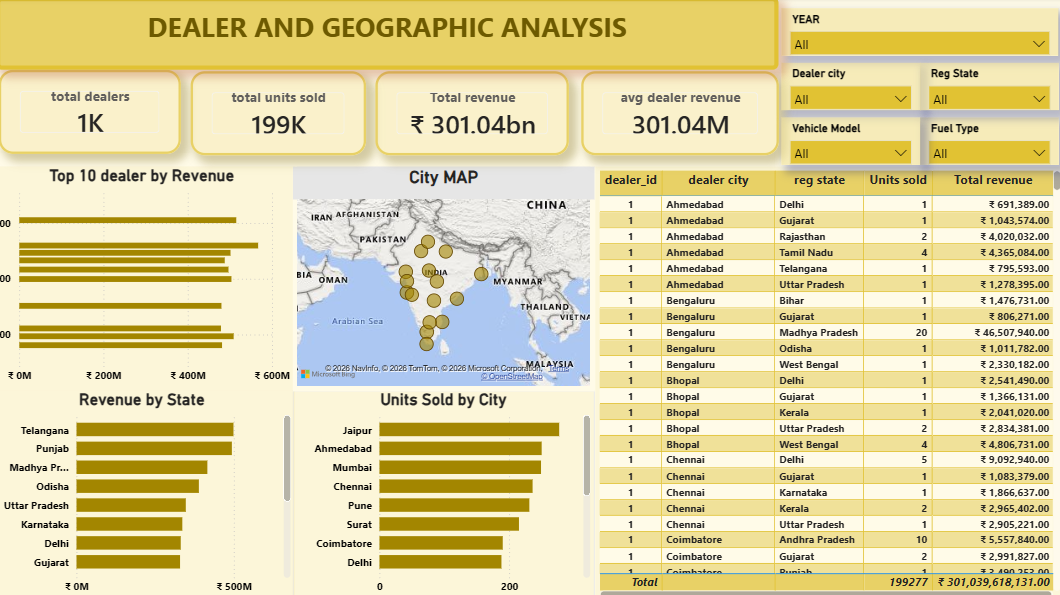

What the dashboard file says about the page in this screenshot:
{"tool":"powerbi","page":{"name":"dealer analysis","canvas":[1280,720],"ordinal":2},"visuals":[{"type":"cardVisual","fields":{"Data":["date_table.total dealers"]},"box":[6.7,90,170,100],"z":0},{"type":"barChart","title":"Top 10 dealer by Revenue","fields":{"Y":["date_table.Total revenue"],"Category":["sales_details.dealer_id"]},"box":[0,201.7,363.3,266.7],"z":1000},{"type":"barChart","title":"Units Sold by City","fields":{"Y":["date_table.total units sold"],"Category":["sales_details.dealer_city"]},"box":[361.7,468.3,358.3,251.7],"z":2000},{"type":"barChart","title":"Revenue by State","fields":{"Y":["date_table.Total revenue"],"Category":["sales_details.reg_state"]},"box":[0,468.3,363.3,251.7],"z":3000},{"type":"map","title":"City MAP","fields":{"Size":["date_table.total units sold"],"Category":["sales_details.dealer_city"]},"box":[361.7,201.7,358.3,266.7],"z":4000},{"type":"tableEx","fields":{"Values":["sales_details.dealer_id","sales_details.dealer_city","sales_details.reg_state","date_table.total units sold","date_table.Total revenue"]},"box":[720,201.7,558.3,518.3],"z":5000},{"type":"slicer","title":"year","fields":{"Values":["date_table.year"]},"box":[858.3,13.3,413.3,56.7],"z":6000},{"type":"cardVisual","fields":{"Data":["date_table.total units sold"]},"box":[188.3,91.7,196.7,100],"z":7000},{"type":"cardVisual","fields":{"Data":["date_table.Total revenue"]},"box":[396.7,91.7,218.3,100],"z":8000},{"type":"cardVisual","fields":{"Data":["date_table.avg dealer revenue"]},"box":[628.3,91.7,218.3,100],"z":9000},{"type":"slicer","title":"year","fields":{"Values":["vehicle_info.fuel_type"]},"box":[1065,141.7,206.7,56.7],"z":10000},{"type":"slicer","title":"year","fields":{"Values":["sales_details.dealer_city"]},"box":[858.3,78.3,206.7,56.7],"z":11000},{"type":"slicer","title":"year","fields":{"Values":["sales_details.reg_state"]},"box":[1065,78.3,206.7,56.7],"z":12000},{"type":"slicer","title":"year","fields":{"Values":["sales_details.vehicle_model"]},"box":[858.3,140,206.7,56.7],"z":13000},{"type":"textbox","box":[8.3,3.3,838.6,86.5],"z":14000}]}

Visuals, with their boxes in screenshot pixels (x1, y1, x2, y2), scaled from the page's 1280x720 canvas onto the 1060x595 screenshot:
cardVisual - date_table.total dealers: Rect(6, 74, 146, 157)
"Top 10 dealer by Revenue" barChart: Rect(0, 167, 301, 387)
"Units Sold by City" barChart: Rect(300, 387, 596, 594)
"Revenue by State" barChart: Rect(0, 387, 301, 594)
"City MAP" map: Rect(300, 167, 596, 387)
tableEx - sales_details.dealer_id x sales_details.dealer_city: Rect(596, 167, 1059, 594)
"year" slicer: Rect(711, 11, 1053, 58)
cardVisual - date_table.total units sold: Rect(156, 76, 319, 158)
cardVisual - date_table.Total revenue: Rect(329, 76, 509, 158)
cardVisual - date_table.avg dealer revenue: Rect(520, 76, 701, 158)
"year" slicer: Rect(882, 117, 1053, 164)
"year" slicer: Rect(711, 65, 882, 112)
"year" slicer: Rect(882, 65, 1053, 112)
"year" slicer: Rect(711, 116, 882, 163)
textbox: Rect(7, 3, 701, 74)
